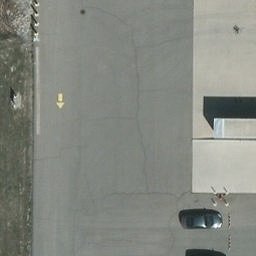car: (181, 213, 224, 229)
